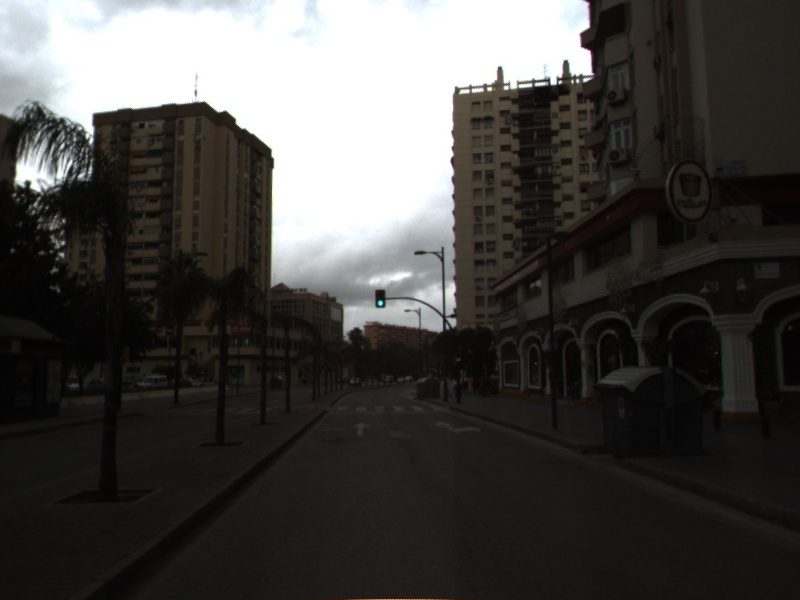STRAIGHT: (348, 420, 374, 438)
STRAIGHT_RIGHT: (433, 418, 483, 436)
